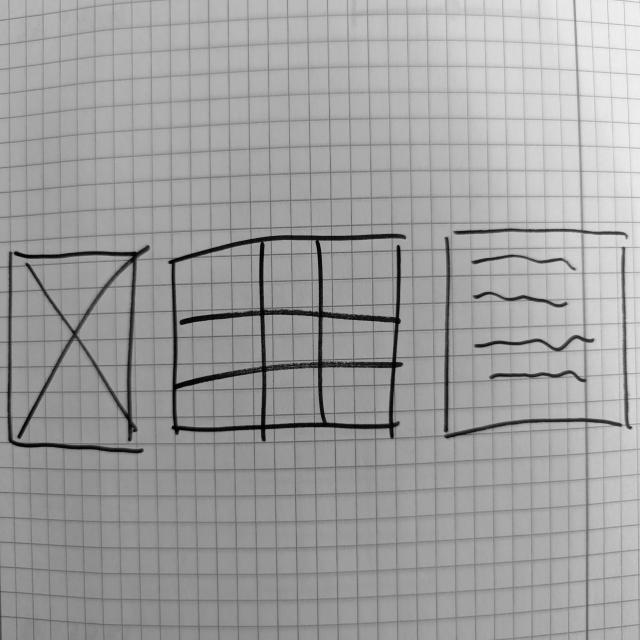image: (7, 246, 142, 454)
table: (168, 230, 412, 438)
textbox: (440, 226, 632, 444)
